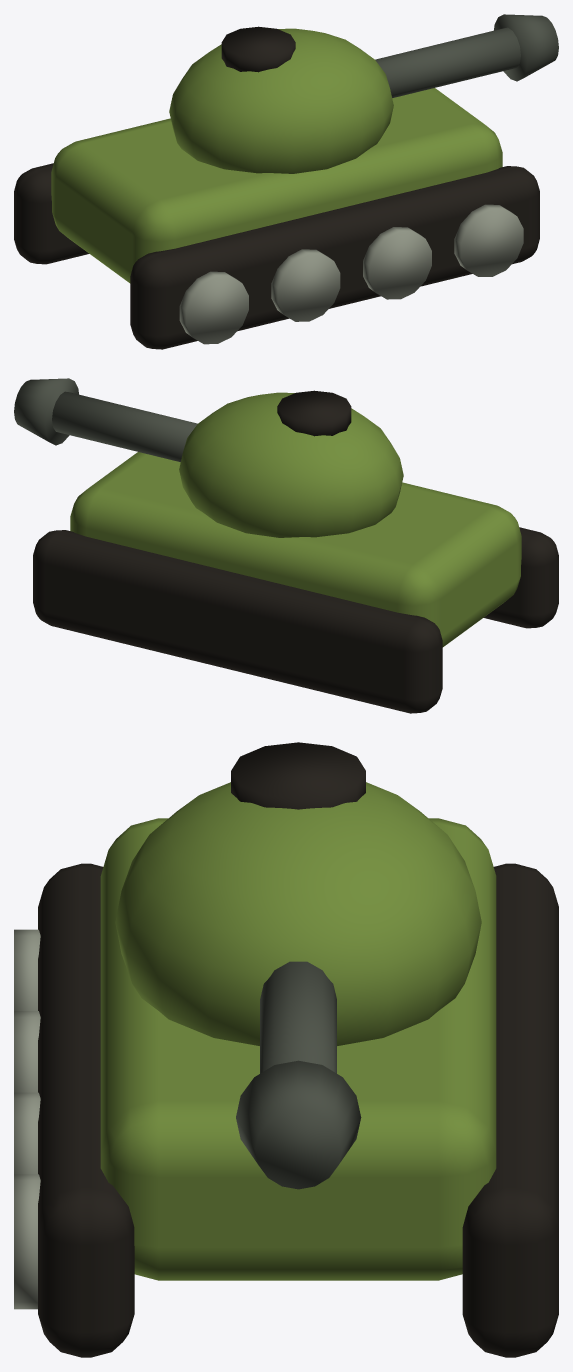
File: tank.glb
The picture shows the model from 3 angles, top to bottom: view 1: azimuth 30°, elevation 25°; view 2: azimuth 150°, elevation 25°; view 3: azimuth 270°, elevation 25°; orthographic projection. The views are drawn at different scales.
Parts seen in each view (by area): view 1: hull, trackR, turret, gun, trackL, wheel0, wheel1, wheel3, wheel2, hatch, brake; view 2: trackL, hull, turret, gun, trackR, hatch, brake; view 3: hull, turret, trackL, trackR, brake, hatch, gun, wheel3, wheel2, wheel0, wheel1.
Part boxes in pixels (left/top/right/bottom): hull: left=51, top=88, right=502, bottom=283; trackR: left=130, top=166, right=539, bottom=349; turret: left=169, top=28, right=393, bottom=173; gun: left=375, top=27, right=520, bottom=97; trackL: left=14, top=163, right=89, bottom=264; wheel0: left=179, top=271, right=248, bottom=344; wheel1: left=271, top=249, right=340, bottom=321; wheel3: left=454, top=204, right=523, bottom=276; wheel2: left=363, top=227, right=431, bottom=299; hatch: left=221, top=26, right=295, bottom=72; brake: left=494, top=14, right=558, bottom=81; trackL: left=33, top=530, right=442, bottom=713; hull: left=70, top=452, right=521, bottom=647; turret: left=179, top=392, right=403, bottom=537; gun: left=52, top=391, right=197, bottom=461; trackR: left=483, top=527, right=558, bottom=628; hatch: left=277, top=390, right=351, bottom=436; brake: left=14, top=378, right=78, bottom=445; hull: left=100, top=818, right=496, bottom=1280; turret: left=115, top=782, right=481, bottom=1045; trackL: left=462, top=863, right=558, bottom=1357; trackR: left=38, top=863, right=134, bottom=1357; brake: left=236, top=1060, right=361, bottom=1189; hatch: left=231, top=742, right=365, bottom=809; gun: left=260, top=961, right=336, bottom=1073; wheel3: left=14, top=1174, right=40, bottom=1309; wheel2: left=14, top=1092, right=40, bottom=1174; wheel0: left=14, top=929, right=40, bottom=1010; wheel1: left=14, top=1011, right=40, bottom=1092.
Size of the model in its own units: 2.06 by 0.93 by 1.13.
